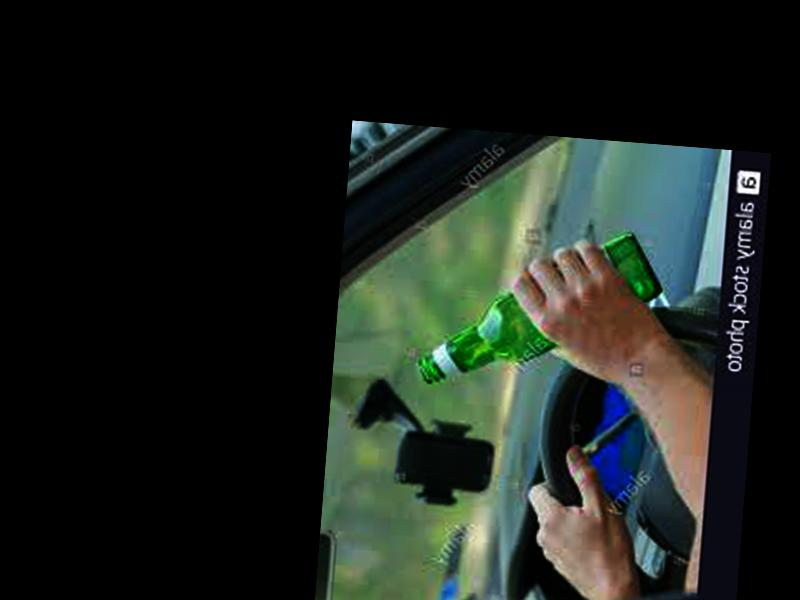Beer: (419, 223, 668, 399)
